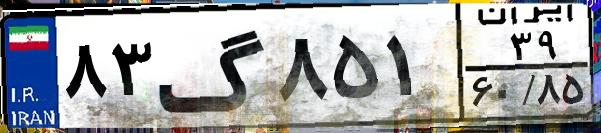0: (495, 70, 520, 125)
1: (385, 28, 445, 110)
3: (110, 28, 156, 98), (508, 27, 537, 80)
5: (330, 28, 385, 110), (560, 70, 590, 125)
6: (470, 70, 495, 125)
8: (270, 28, 330, 110), (57, 26, 110, 100), (535, 70, 560, 125)
9: (537, 27, 568, 80)
گ: (156, 12, 270, 120)
